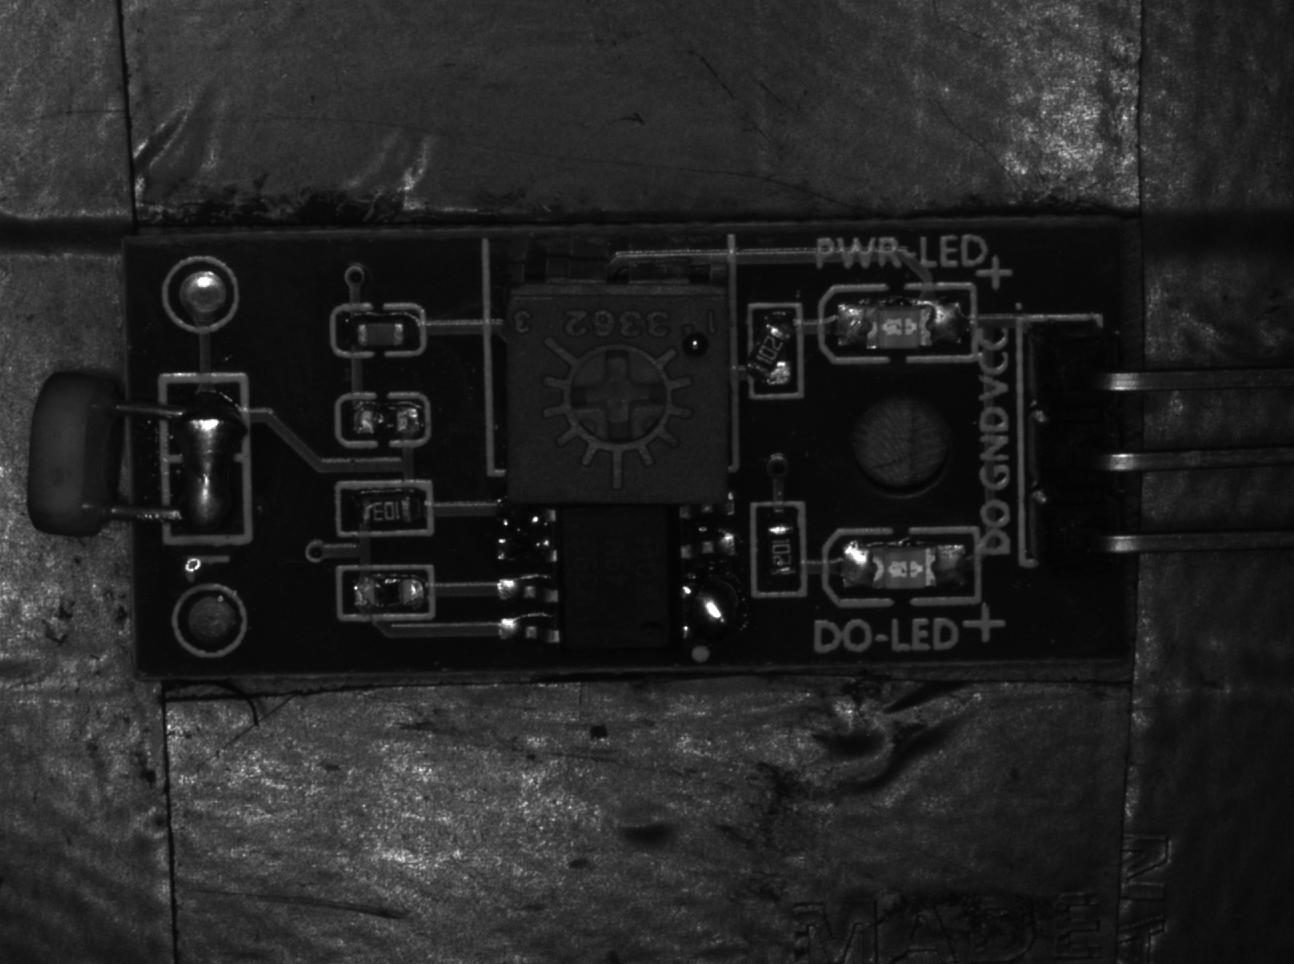bridge: (156, 373, 251, 549), (680, 570, 743, 651), (504, 509, 556, 575)
lifted: (746, 304, 804, 399)
miss: (339, 561, 431, 625), (335, 393, 435, 446)
ok: (329, 299, 428, 361), (336, 478, 435, 536), (755, 503, 805, 600)
